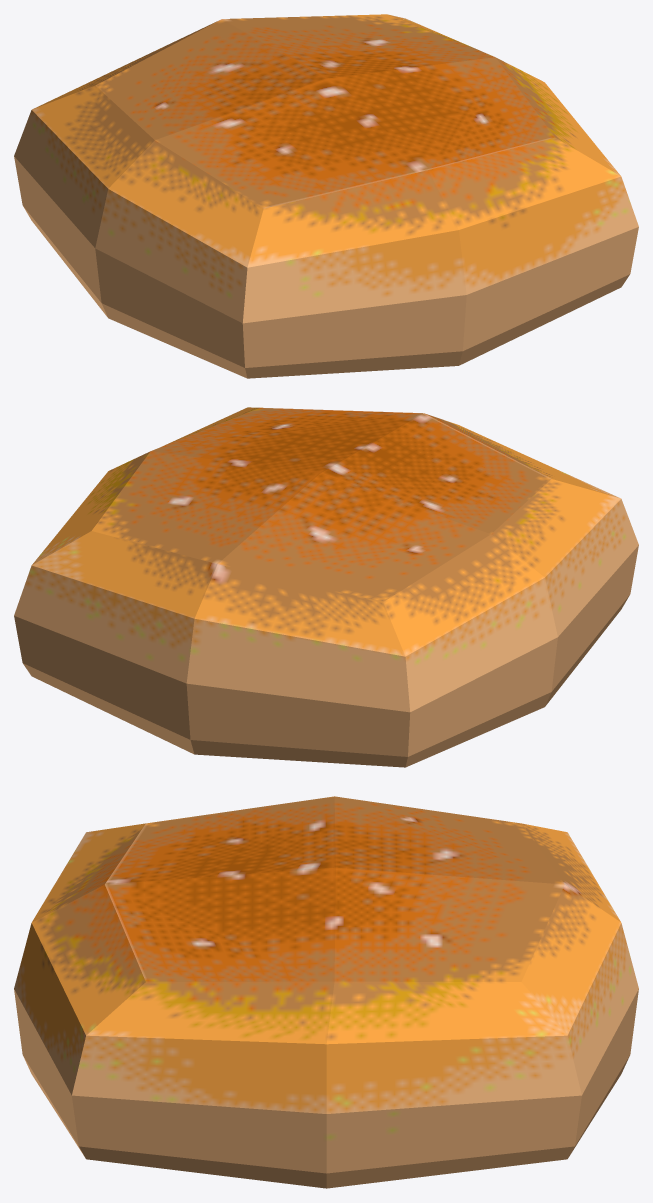
Rendered from topbun.fbx.
The picture shows the model from 3 angles, top to bottom: view 1: azimuth 30°, elevation 25°; view 2: azimuth 150°, elevation 25°; view 3: azimuth 270°, elevation 25°; orthographic projection. The views are drawn at different scales.
Visible parts, largest first — view 1: top bun; view 2: top bun; view 3: top bun.
Part boxes in pixels (left/top/right/bottom): top bun: left=14, top=14, right=638, bottom=378; top bun: left=14, top=407, right=638, bottom=767; top bun: left=14, top=796, right=638, bottom=1188.
Size of the model in its own units: 247 by 95.31 by 260.
